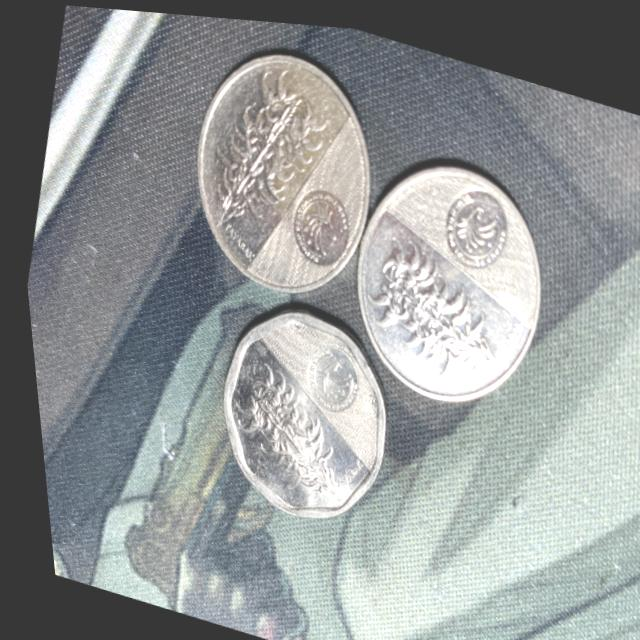5_New_Back: (195, 58, 330, 256), (212, 345, 357, 507), (365, 232, 514, 380)
